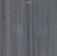No waiting: (5, 4, 51, 50)
